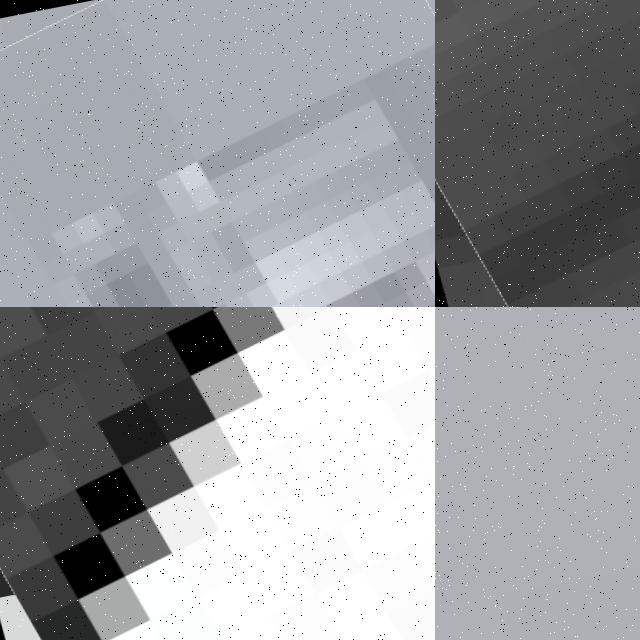0: (0, 0, 435, 307)
drone: (0, 307, 435, 640), (435, 0, 640, 307)
